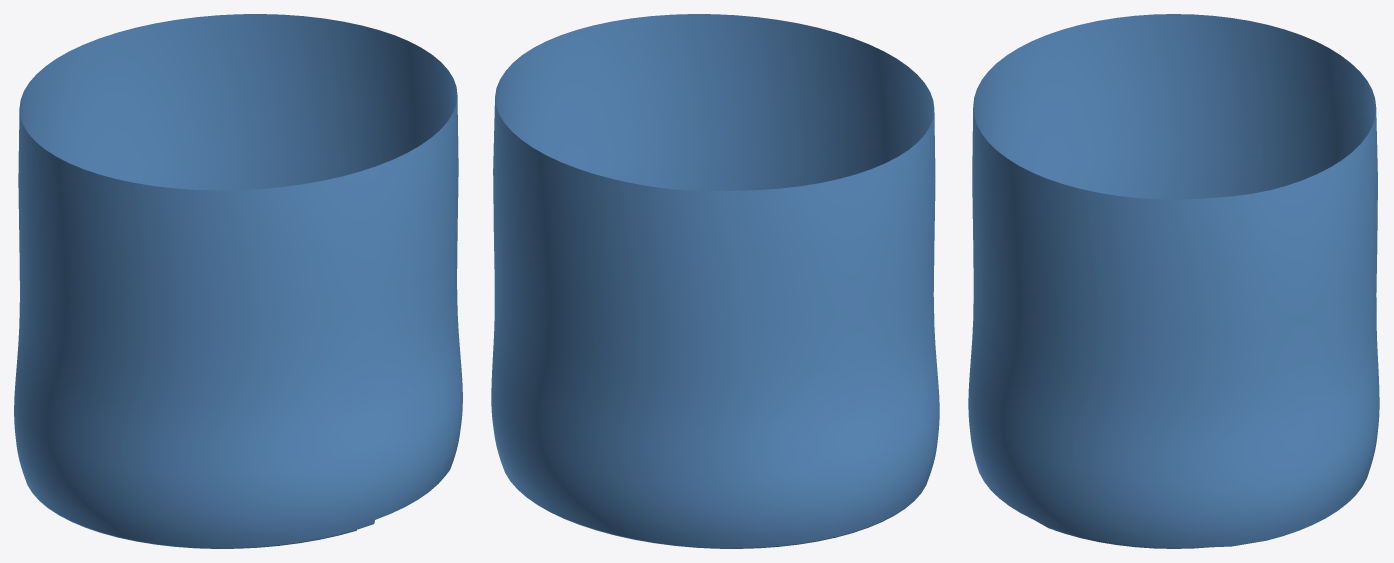
The model's file is ball.glb.
3 views of the same model, side by side, from view 1: azimuth 30°, elevation 25°; view 2: azimuth 150°, elevation 25°; view 3: azimuth 270°, elevation 25° (orthographic).
Visible parts, largest first — view 1: Line002.001; view 2: Line002.001; view 3: Line002.001.
Boxes of the visible parts, bbox=[...] form: Line002.001: bbox=[14, 14, 462, 548]; Line002.001: bbox=[491, 14, 939, 548]; Line002.001: bbox=[968, 14, 1379, 548].
Bounding box in the file's own units: 76.73 × 66.54 × 70.12.
